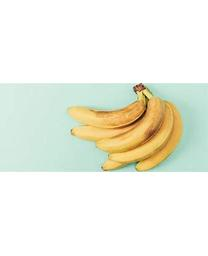banana: (67, 83, 185, 171)
